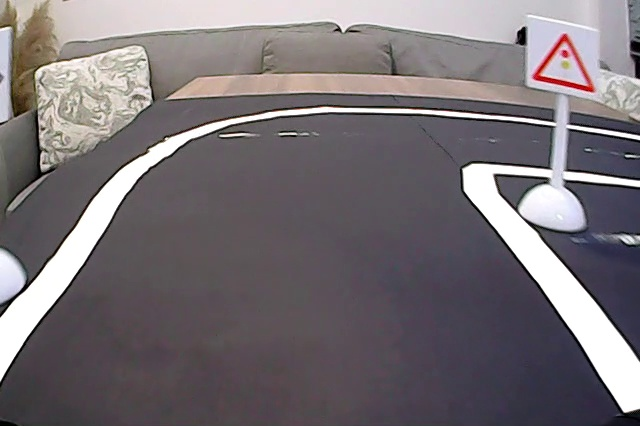red light: (530, 17, 600, 96)
